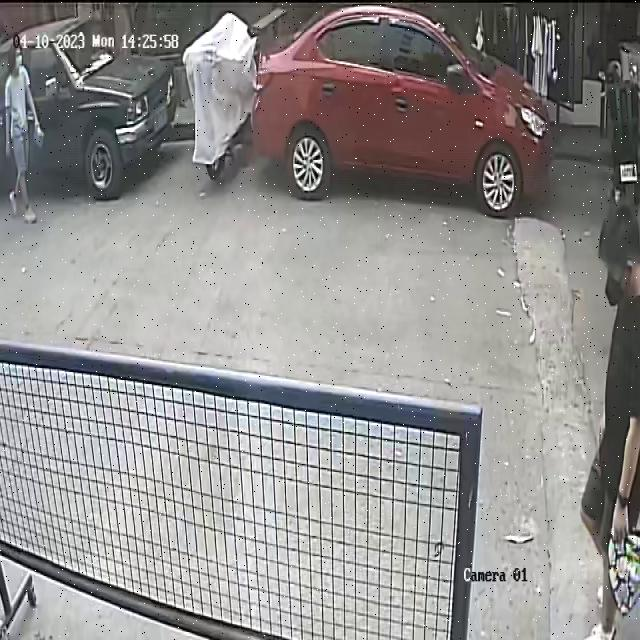garbage_dumping: (31, 120, 46, 147)
